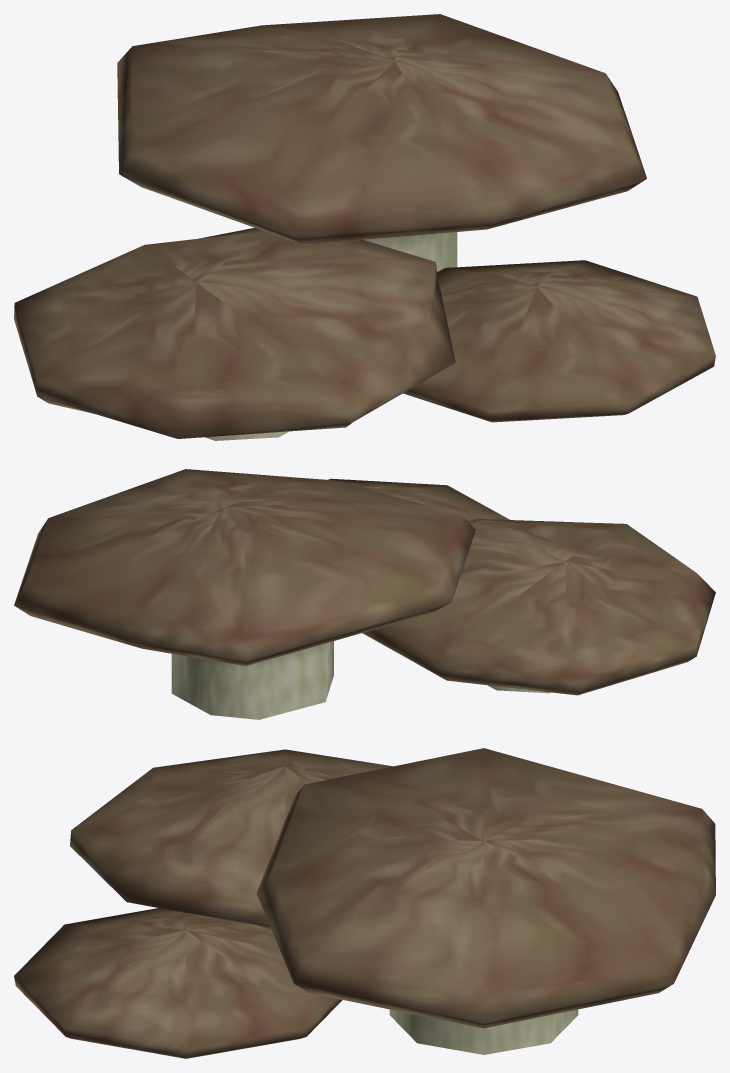
File: Mushroom_Flat.glb
3 views of the same model, one above another, from view 1: azimuth 30°, elevation 25°; view 2: azimuth 150°, elevation 25°; view 3: azimuth 270°, elevation 25° (orthographic). The views are drawn at different scales.
Visible parts, largest first — view 1: Shroom8, Shroom7, Shroom9; view 2: Shroom8, Shroom7, Shroom9; view 3: Shroom8, Shroom9, Shroom7.
Part boxes in pixels (x1,y1,x2,y2): Shroom8: [117, 14, 646, 271]; Shroom7: [14, 228, 455, 440]; Shroom9: [403, 260, 715, 422]; Shroom8: [14, 469, 475, 719]; Shroom7: [362, 519, 715, 695]; Shroom9: [328, 478, 509, 520]; Shroom8: [256, 748, 715, 1054]; Shroom9: [14, 908, 342, 1058]; Shroom7: [70, 749, 392, 928].
Size of the model in its own units: 0.5219 by 0.15 by 0.4961.
Materials: 1 (1 with a texture image).
